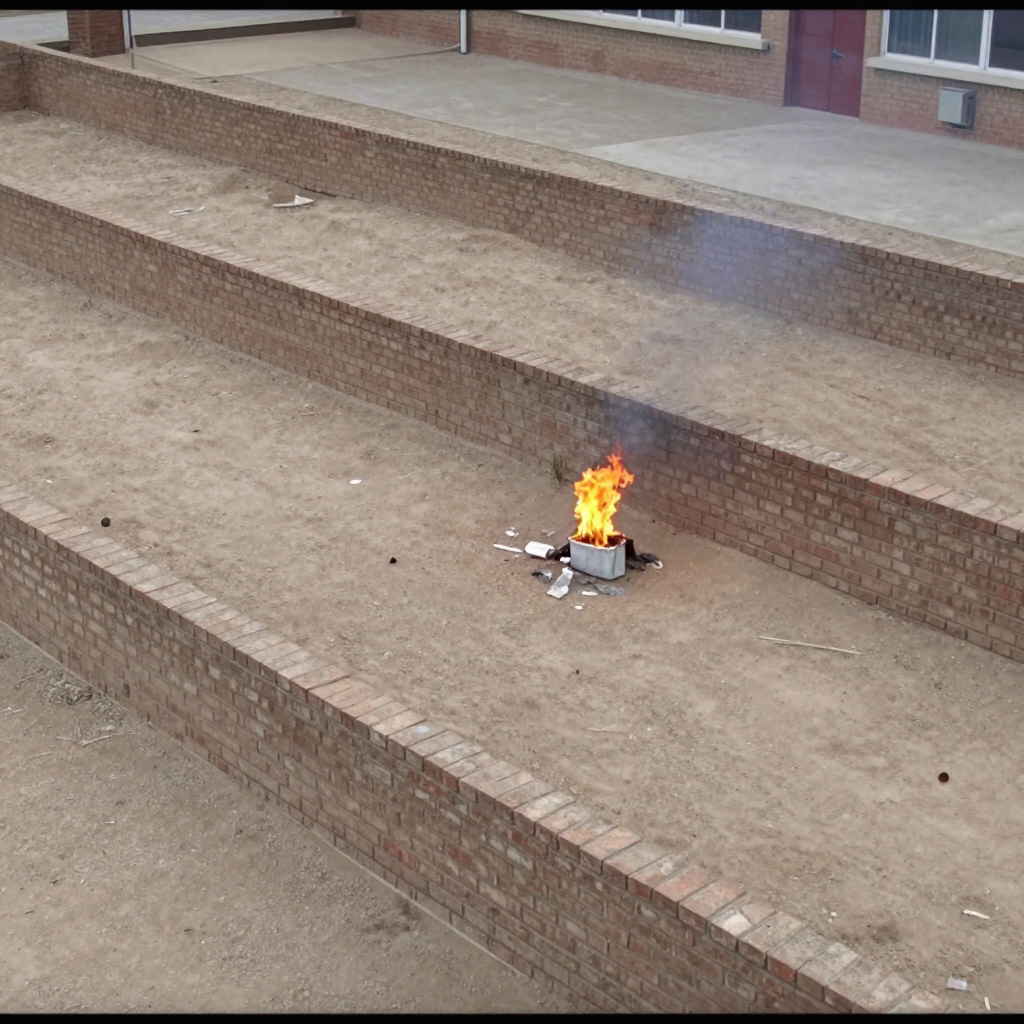Arson: (568, 455, 627, 547)
Explosion: (612, 190, 857, 460)
